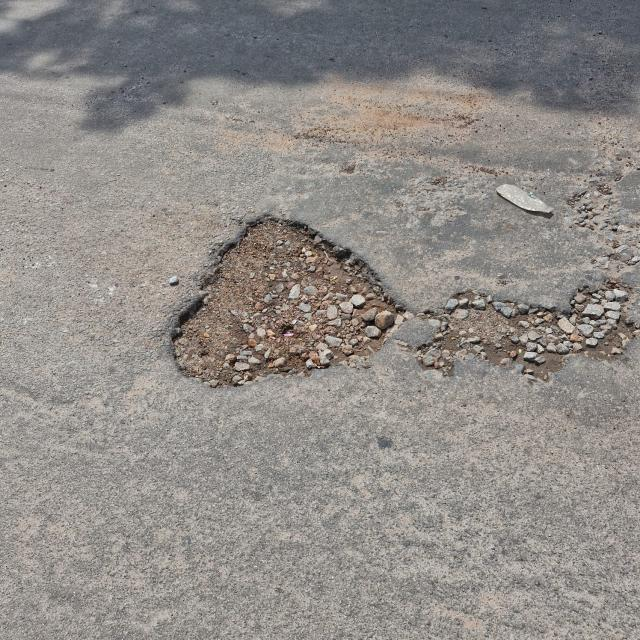pothole: (174, 219, 406, 387), (415, 279, 640, 380), (532, 110, 640, 278), (413, 147, 504, 225)
